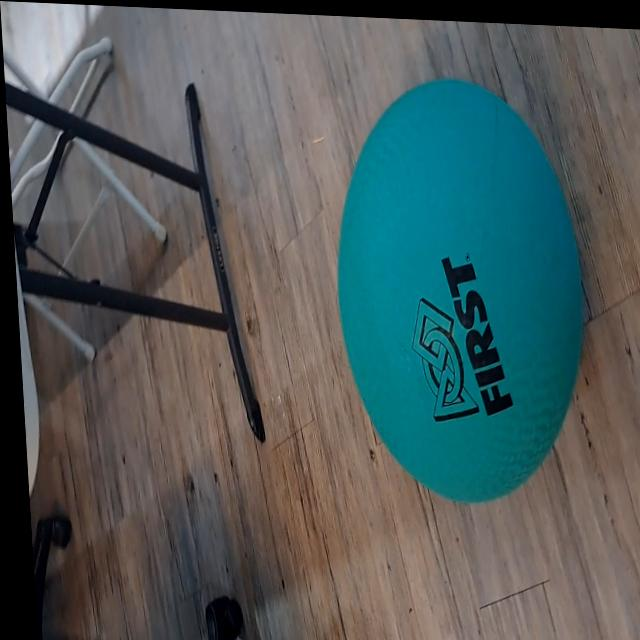ALGAE: (322, 70, 597, 511)
